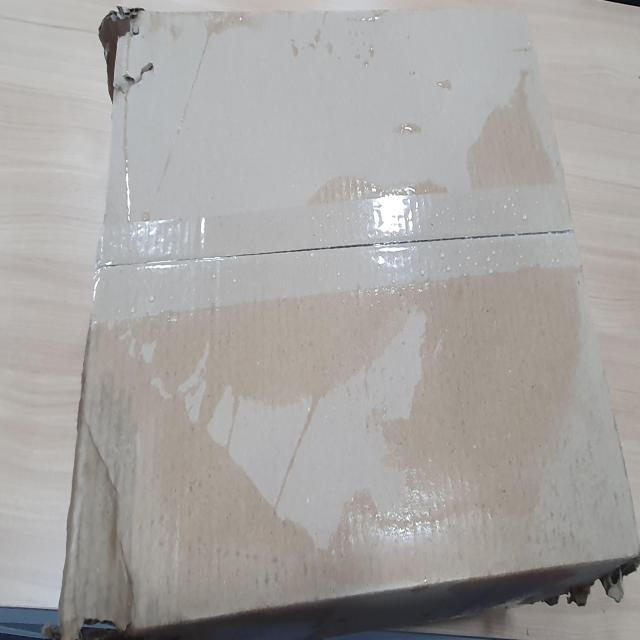damaged: (99, 7, 153, 84)
wet: (61, 0, 640, 618)
